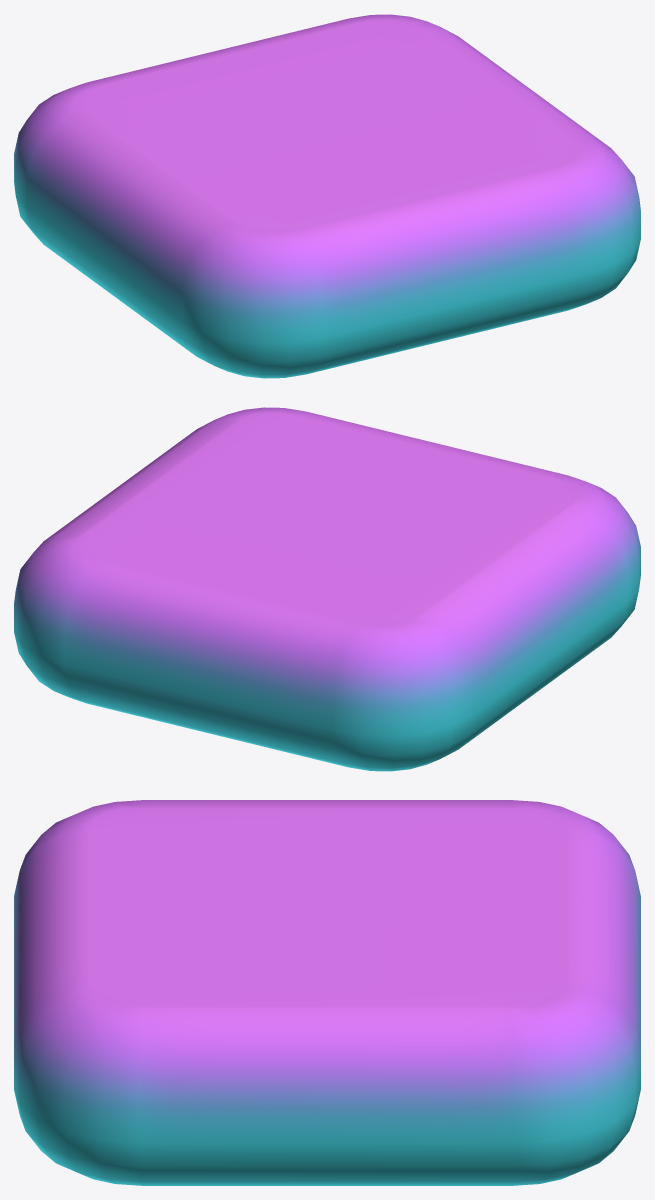
File: stage10.fbx
3 renders of one model, top to bottom at view 1: azimuth 30°, elevation 25°; view 2: azimuth 150°, elevation 25°; view 3: azimuth 270°, elevation 25°, orthographic. The views are drawn at different scales.
Parts seen in each view (by area): view 1: stage10; view 2: stage10; view 3: stage10.
Part boxes in pixels (left/top/right/bottom): stage10: left=14, top=14, right=640, bottom=378; stage10: left=14, top=407, right=640, bottom=771; stage10: left=14, top=800, right=640, bottom=1185.
Bounding box in the file's own units: 1000 × 300 × 1000.
